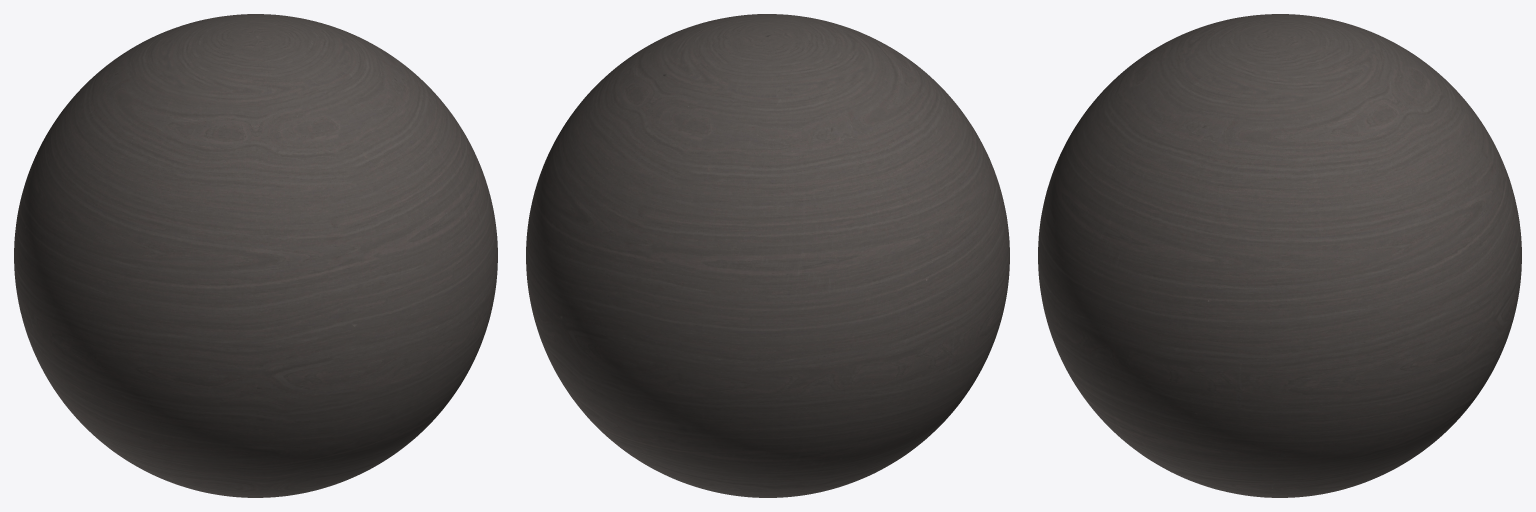
Rendered from flamed_black_veneer_1k.gltf.
3 views of the same model, side by side, from view 1: azimuth 30°, elevation 25°; view 2: azimuth 150°, elevation 25°; view 3: azimuth 270°, elevation 25° (orthographic).
Parts seen in each view (by area): view 1: sphere_gltf; view 2: sphere_gltf; view 3: sphere_gltf.
Boxes of the visible parts, bbox=[...] form: sphere_gltf: bbox=[14, 14, 497, 497]; sphere_gltf: bbox=[526, 14, 1009, 497]; sphere_gltf: bbox=[1038, 14, 1521, 497].
Size of the model in its own units: 1 by 1 by 1.
1 material, 1 textured.
